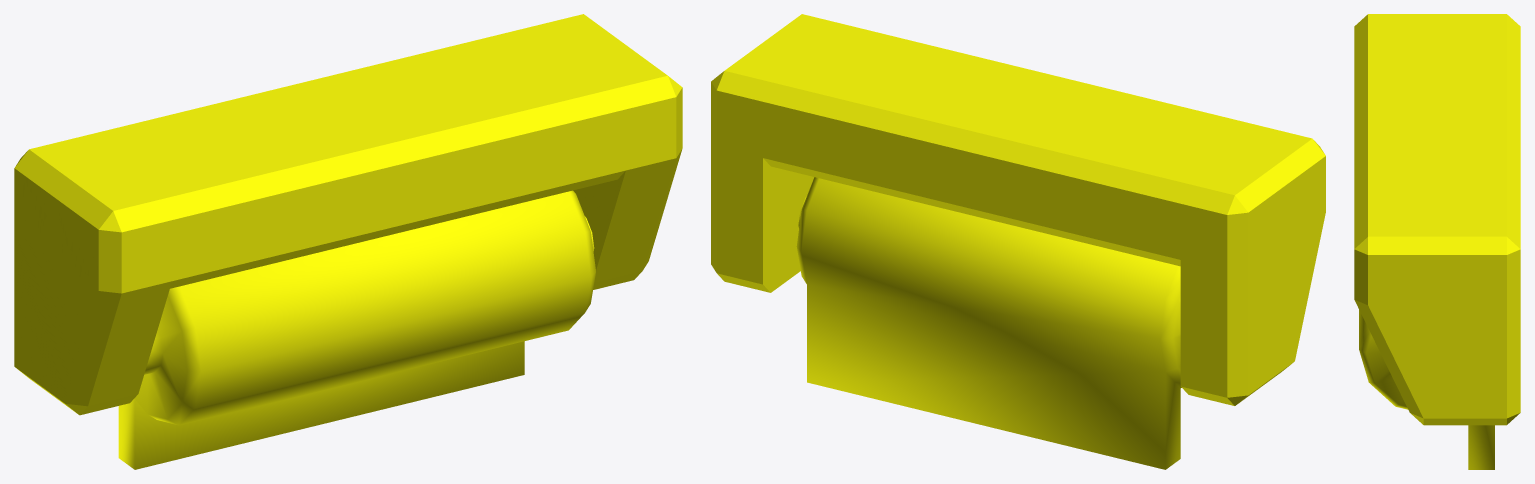
The model's file is shelf_papertowel.gltf.
3 renders of one model, left to right at view 1: azimuth 30°, elevation 25°; view 2: azimuth 150°, elevation 25°; view 3: azimuth 270°, elevation 25°, orthographic. The views are drawn at different scales.
Parts seen in each view (by area): view 1: shelf_papertowel; view 2: shelf_papertowel; view 3: shelf_papertowel.
Boxes of the visible parts, left/top/right/bottom form: shelf_papertowel: left=14, top=14, right=682, bottom=469; shelf_papertowel: left=711, top=14, right=1325, bottom=469; shelf_papertowel: left=1354, top=14, right=1520, bottom=469.
Bounding box in the file's own units: 2 × 1.06 × 0.6.
1 material, 1 textured.
